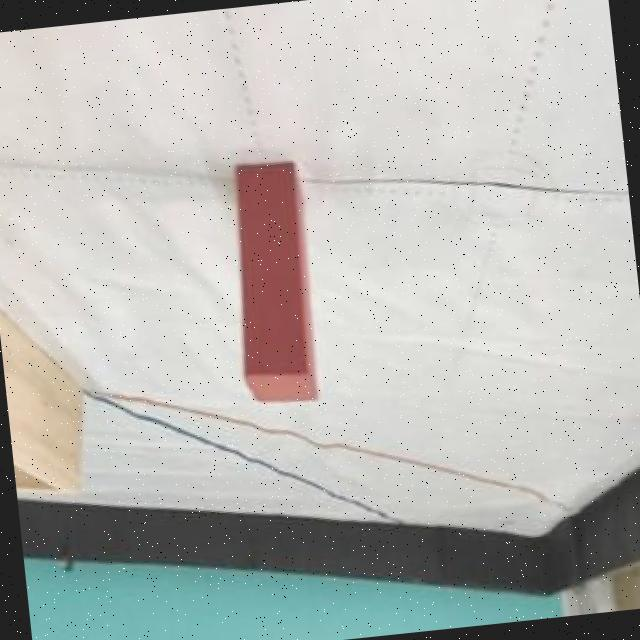redbox: (220, 158, 326, 411)
